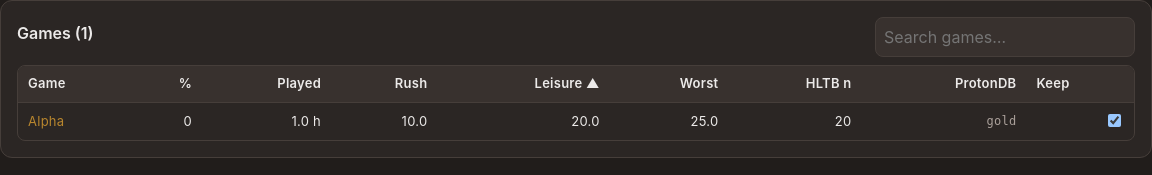
GameTable › toggles sort direction when a header is clicked
This screenshot has width=1152, height=175.
Click the column heading "Game": (76, 84) [18,66,135,102]
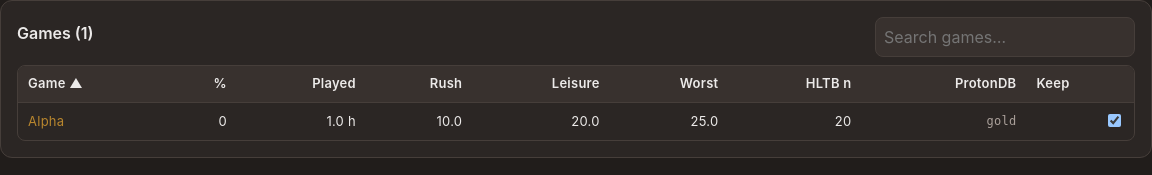
Expected: the column heading "Game ▲" is shown
Click the column heading "Game ▲": (94, 84) [18,66,170,102]
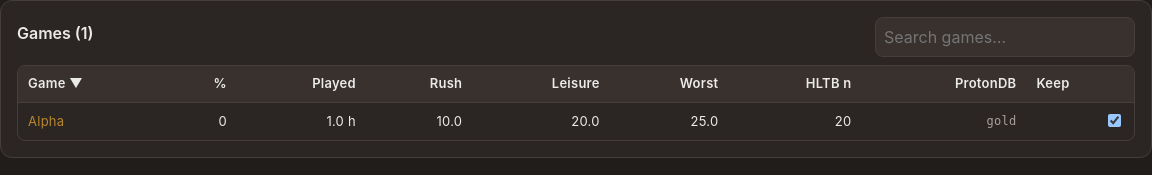
Expected: the column heading "Game ▼" is shown, [18,66,170,102]
